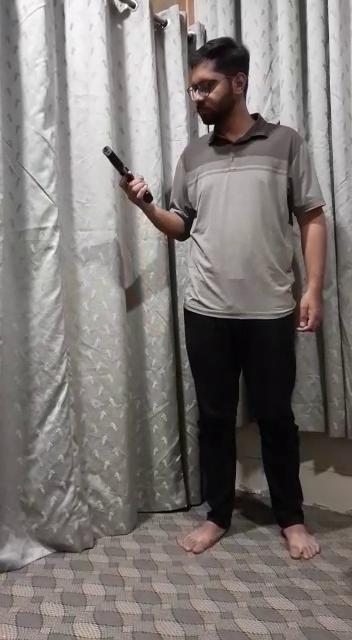criminal: (98, 33, 329, 560)
weapon: (99, 142, 156, 208)
